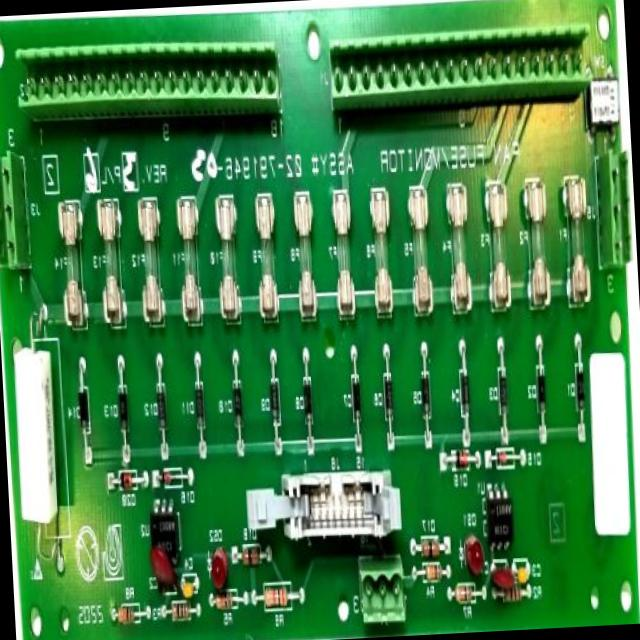IC: (482, 490, 518, 548), (148, 506, 185, 558)
LED: (462, 534, 487, 579), (208, 538, 230, 589)
capacitor: (146, 554, 180, 586), (491, 560, 514, 592), (181, 570, 197, 600), (513, 561, 530, 583)
connector: (323, 9, 594, 117), (14, 28, 280, 120), (6, 325, 64, 549), (250, 467, 401, 542), (594, 144, 635, 280), (356, 558, 409, 638), (0, 151, 27, 266)
diode: (572, 347, 588, 429), (532, 356, 549, 429), (228, 372, 246, 440), (454, 358, 471, 428), (494, 360, 511, 426), (154, 382, 171, 444), (74, 385, 91, 447), (416, 527, 444, 563), (266, 380, 286, 430), (299, 370, 314, 436), (379, 364, 394, 428), (115, 382, 130, 444), (418, 364, 435, 416), (348, 374, 364, 429), (192, 379, 208, 430), (238, 542, 260, 578), (116, 468, 140, 500), (492, 448, 516, 474), (154, 474, 183, 494), (450, 454, 477, 474)
resistor: (261, 581, 291, 621), (494, 586, 528, 616), (211, 588, 238, 619), (420, 558, 444, 590), (168, 602, 196, 626), (113, 605, 144, 625), (455, 582, 478, 606)
